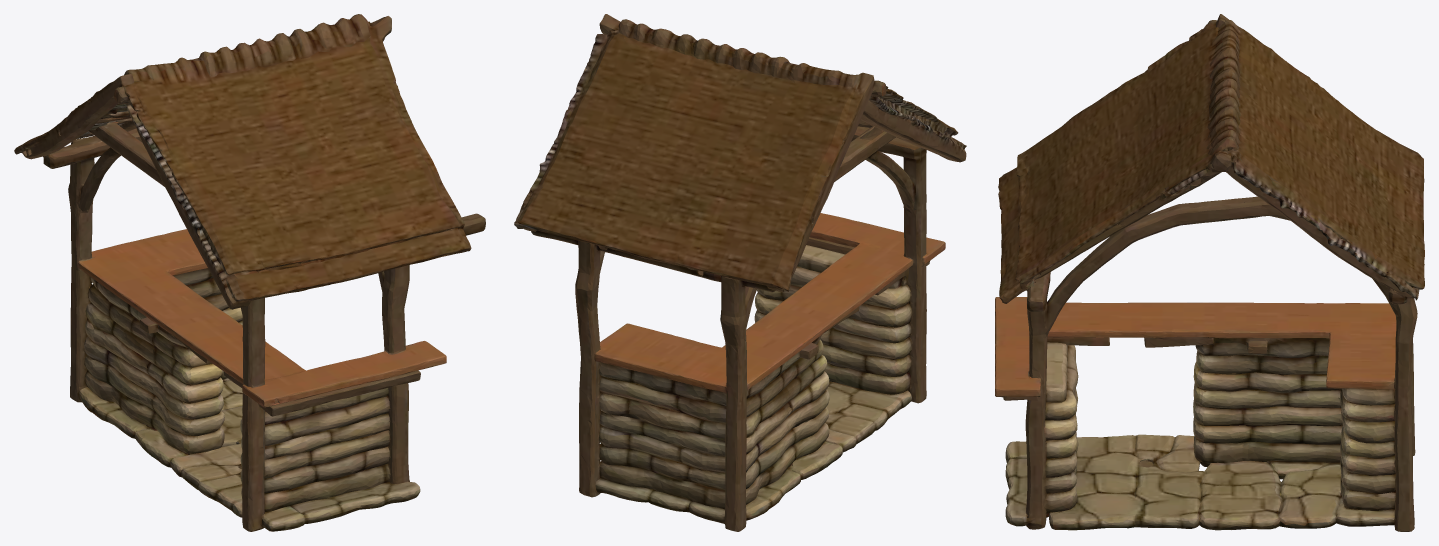
The model's file is village_market_stall_01.glb.
The picture shows the model from 3 angles, left to right: view 1: azimuth 30°, elevation 25°; view 2: azimuth 150°, elevation 25°; view 3: azimuth 270°, elevation 25°; orthographic projection. The views are drawn at different scales.
Visible parts, largest first — view 1: geometry_0; view 2: geometry_0; view 3: geometry_0.
Boxes of the visible parts, x1,y1,x2,y2 form: geometry_0: [14, 14, 485, 531]; geometry_0: [514, 14, 966, 531]; geometry_0: [995, 14, 1424, 531].
Bounding box in the file's own units: 0.7447 × 1 × 0.9332.
1 material, 1 textured.
